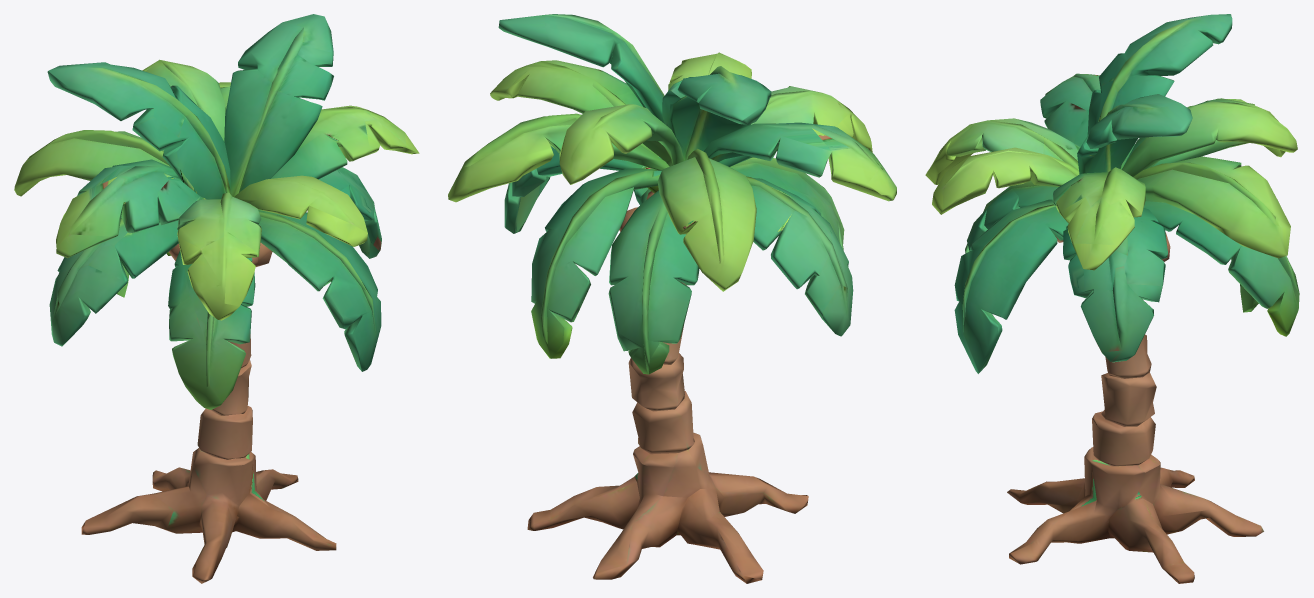
File: palm-tree-mobile.glb
The picture shows the model from 3 angles, left to right: view 1: azimuth 30°, elevation 25°; view 2: azimuth 150°, elevation 25°; view 3: azimuth 270°, elevation 25°; orthographic projection. The views are drawn at different scales.
Visible parts, largest first — view 1: model; view 2: model; view 3: model.
Part boxes in pixels (<box>): model: <box>14,14,419,583</box>; model: <box>448,14,896,583</box>; model: <box>925,14,1299,583</box>.
Size of the model in its own units: 1.57 by 1.9 by 1.36.
1 material, 1 textured.
